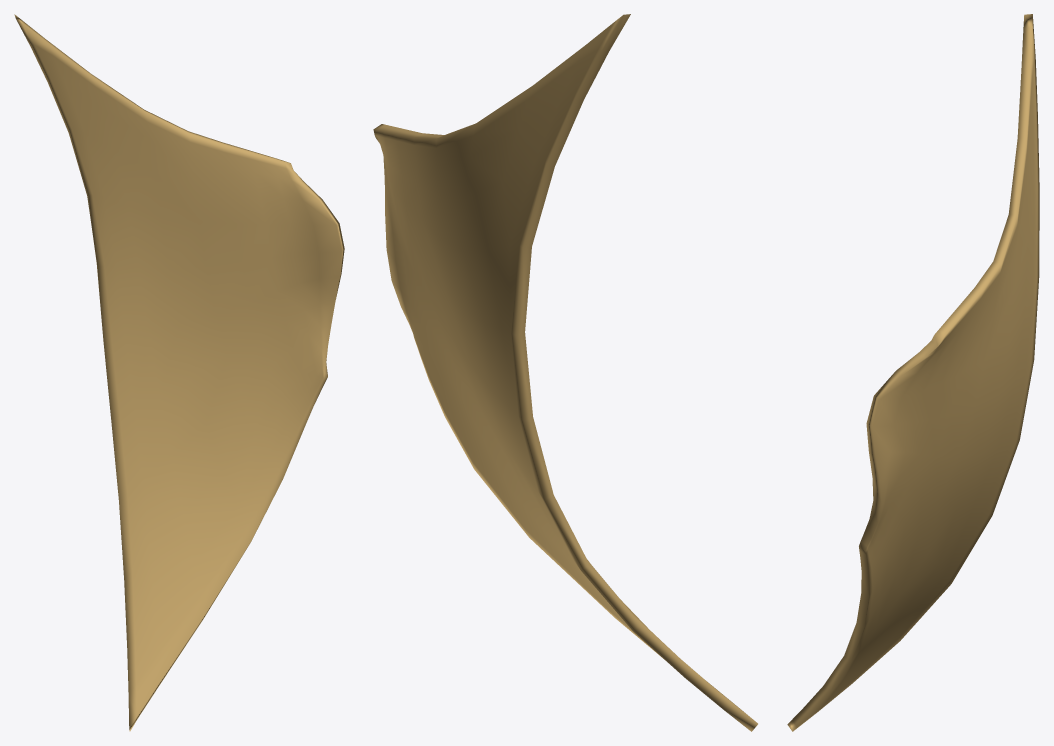
The picture shows the model from 3 angles, left to right: view 1: azimuth 30°, elevation 25°; view 2: azimuth 150°, elevation 25°; view 3: azimuth 270°, elevation 25°; orthographic projection. The views are drawn at different scales.
Visible parts, largest first — view 1: 右侧髋臼横韧带; view 2: 右侧髋臼横韧带; view 3: 右侧髋臼横韧带.
Boxes of the visible parts, x1=… form: 右侧髋臼横韧带: x1=14, y1=14, x2=344, y2=731; 右侧髋臼横韧带: x1=373, y1=14, x2=757, y2=731; 右侧髋臼横韧带: x1=787, y1=14, x2=1039, y2=731.
Bounding box in the file's own units: 0.0266 × 0.0625 × 0.02.
